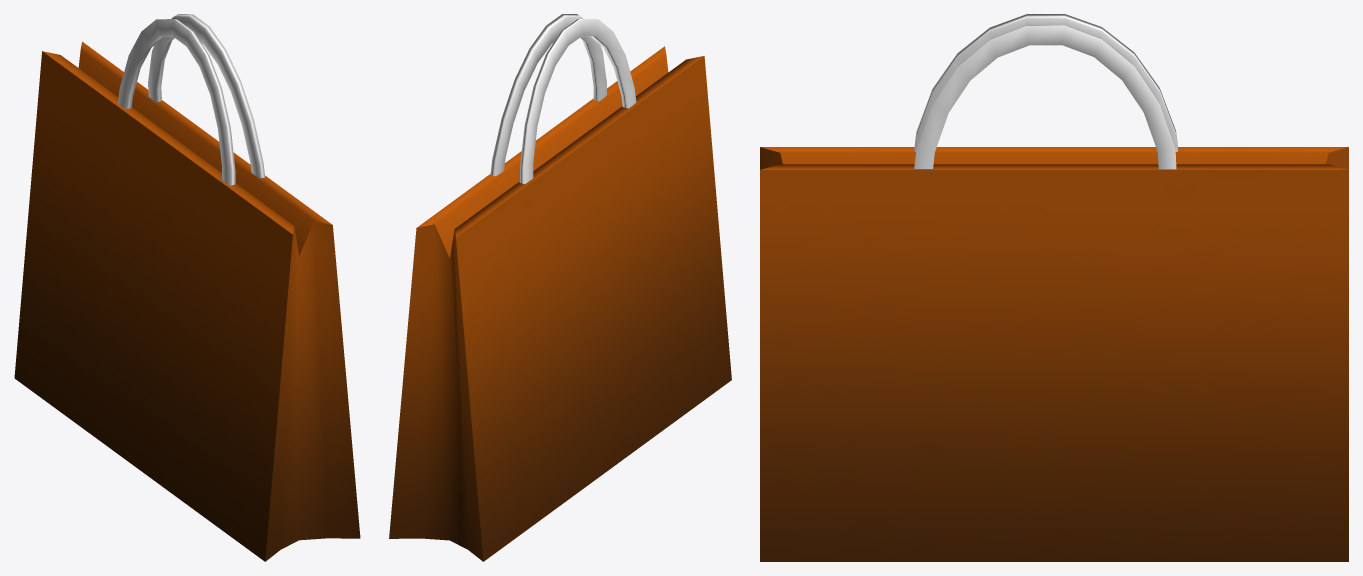
File: PRP_Bag_9.fbx
3 views of the same model, side by side, from view 1: azimuth 30°, elevation 25°; view 2: azimuth 150°, elevation 25°; view 3: azimuth 270°, elevation 25° (orthographic). The views are drawn at different scales.
Visible parts, largest first — view 1: PRP_Bag_9; view 2: PRP_Bag_9; view 3: PRP_Bag_9.
Part boxes in pixels (box(x1,y1,x2,y2)): PRP_Bag_9: box(14, 14, 360, 561); PRP_Bag_9: box(389, 14, 731, 561); PRP_Bag_9: box(760, 14, 1348, 561).
Bounding box in the file's own units: 15.58 × 68.56 × 71.05.
